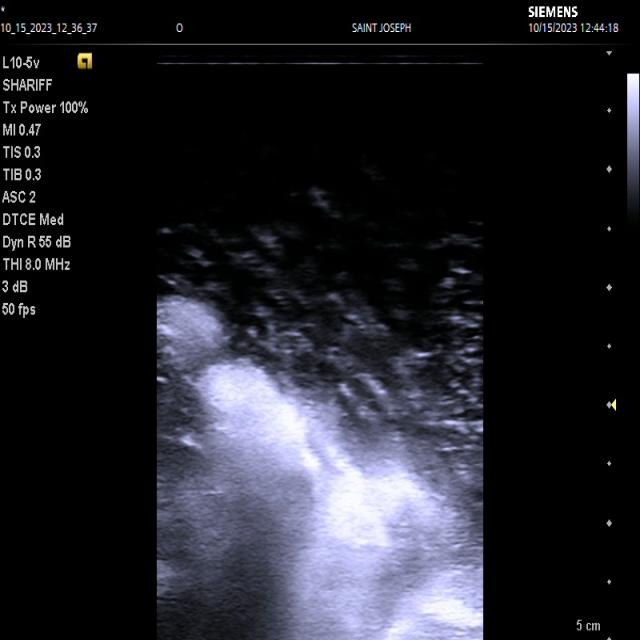tissue: (156, 295, 484, 640)
